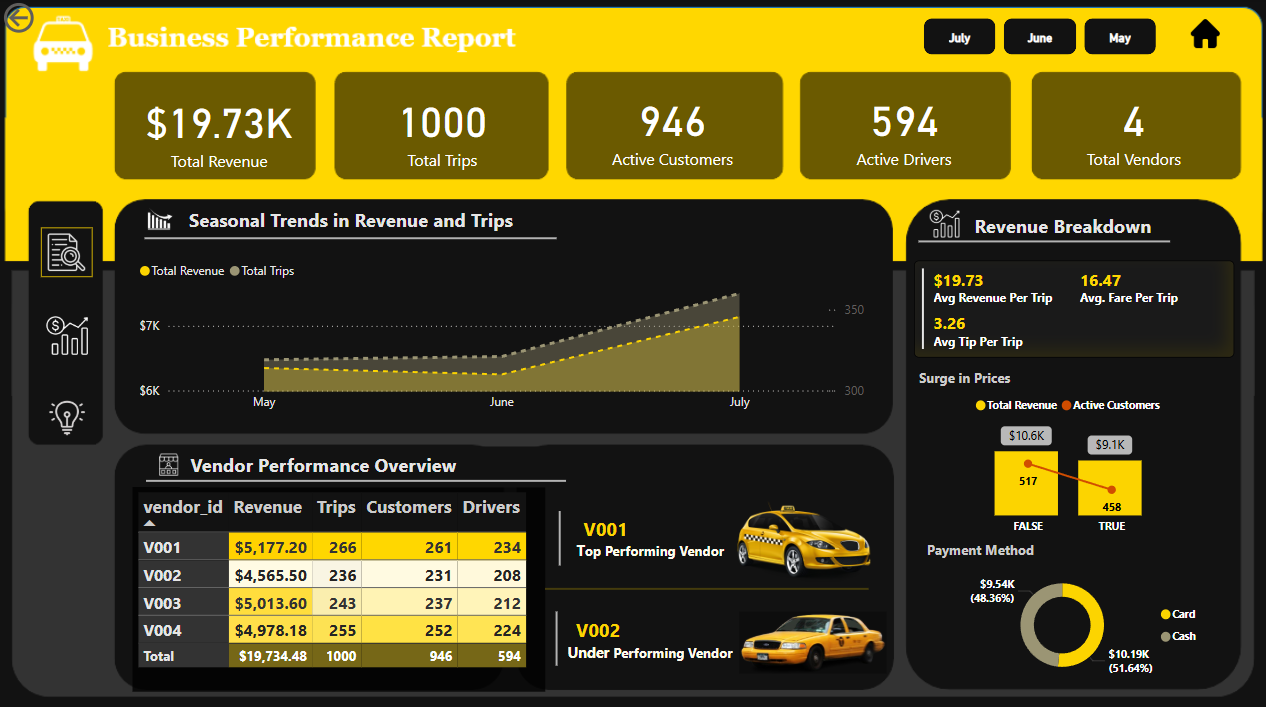

The page's visual inventory and layout, read from the dashboard file:
{"tool":"powerbi","page":{"name":"PerformanceOverview","canvas":[1280,720],"ordinal":1},"visuals":[{"type":"card","fields":{"Values":["taxi_organization_data.Total Revenue"]},"box":[136.7,83.3,171.7,98.3],"z":0},{"type":"card","fields":{"Values":["taxi_organization_data.Total Trips"]},"box":[355.3,81.3,183.3,100.2],"z":1000},{"type":"card","fields":{"Values":["taxi_organization_data.Active Customers"]},"box":[604.7,81.3,151.2,98.3],"z":2000},{"type":"card","fields":{"Values":["Count(taxi_organization_data.vendor_id)"]},"box":[1054.5,81.3,183.3,98.3],"z":3000},{"type":"actionButton","box":[0,0,100,40],"z":4000},{"type":"pieChart","fields":{"Category":["taxi_organization_data.payment_type"],"Y":["taxi_organization_data.Total Revenue"]},"box":[969.5,572.6,253.2,120.9],"z":5000},{"type":"card","fields":{"Values":["taxi_organization_data.Active Drivers"]},"box":[839.1,81.3,149.3,98.3],"z":6000},{"type":"tableEx","title":"Vendors Performance Overview","fields":{"Values":["taxi_organization_data.vendor_id","taxi_organization_data.Total Revenue","taxi_organization_data.Total Trips","taxi_organization_data.Active Customers","taxi_organization_data.Active Drivers"]},"box":[135,493.3,416.7,206.7],"z":7000},{"type":"lineClusteredColumnComboChart","title":"Surge in Prices","fields":{"Category":["taxi_organization_data.surge_pricing"],"Y":["taxi_organization_data.Total Revenue"],"Y2":["taxi_organization_data.Active Customers"]},"box":[924,374,314,176],"z":8000},{"type":"multiRowCard","fields":{"Values":["taxi_organization_data.Avg Revenue Per Trip","taxi_organization_data.Avg. Fare Per Trip","taxi_organization_data.Avg Tip Per Trip"]},"box":[924.1,264.6,323.2,98.3],"z":9000},{"type":"textbox","box":[182,206,396,38],"z":10000},{"type":"shape","box":[147.5,233.8,416.2,18.8],"z":11000},{"type":"textbox","box":[182.5,452.5,496.2,41.2],"z":12000},{"type":"shape","box":[148,472,424,30],"z":14000},{"type":"areaChart","fields":{"Category":["DateCalendar.Date Hierarchy.Month Name","DateCalendar.Date Hierarchy.Week of Month","DateCalendar.Date Hierarchy.Day Name","DateCalendar.Date Hierarchy.Date"],"Y":["taxi_organization_data.Total Revenue"],"Y2":["taxi_organization_data.Total Trips"]},"box":[136,256,742,170],"z":15000},{"type":"image","box":[710.6,502.7,204.1,94.5],"z":16000},{"type":"shape","box":[551.8,582.1,326.9,30.2],"z":17000},{"type":"image","box":[742.7,602.8,158.7,96.4],"z":18000},{"type":"textbox","box":[565,644.4,196.5,30.2],"z":19000},{"type":"textbox","box":[572.6,619.8,102,39.7],"z":20000},{"type":"shape","box":[549.9,619.8,26.5,54.8],"z":21000},{"type":"textbox","box":[573.9,542.4,181.4,30.2],"z":22000},{"type":"textbox","box":[579.5,517.8,102,39.7],"z":23000},{"type":"shape","box":[552.6,518.3,26.7,55],"z":24000},{"type":"textbox","box":[927.9,542.4,190.9,35.9],"z":25000},{"type":"textbox","box":[980,212,234,42],"z":26000},{"type":"shape","box":[928,238,254,16],"z":27000},{"type":"image","box":[138,200,50,48],"z":28000},{"type":"image","box":[136,452,70,36],"z":29000},{"type":"image","box":[928,208,52,40],"z":30000},{"type":"image","box":[42,310,52,60],"z":31000},{"type":"image","box":[42,232,52,50],"z":32000},{"type":"image","box":[42,400,52,48],"z":33000},{"type":"image","box":[1198.1,11.3,39.7,51],"z":34000},{"type":"advancedSlicerVisual","fields":{"Values":["DateCalendar.Month Name"]},"box":[927.9,15.1,247.6,47.2],"z":35000}]}

Visuals, with their boxes in screenshot pixels (x1, y1, x2, y2), scaled from the page's 1280x720 canvas onto the 1266x707 screenshot:
card - taxi_organization_data.Total Revenue: 135/82/305/178
card - taxi_organization_data.Total Trips: 351/80/533/178
card - taxi_organization_data.Active Customers: 598/80/748/176
card - Count(taxi_organization_data.vendor_id): 1043/80/1224/176
actionButton: 0/0/99/39
pieChart - taxi_organization_data.payment_type x taxi_organization_data.Total Revenue: 959/562/1209/681
card - taxi_organization_data.Active Drivers: 830/80/978/176
"Vendors Performance Overview" tableEx: 134/484/546/687
"Surge in Prices" lineClusteredColumnComboChart: 914/367/1224/540
multiRowCard - taxi_organization_data.Avg Revenue Per Trip x taxi_organization_data.Avg. Fare Per Trip: 914/260/1234/356
textbox: 180/202/572/240
shape: 146/230/558/248
textbox: 181/444/671/485
shape: 146/463/566/493
areaChart - DateCalendar.Date Hierarchy.Month Name x DateCalendar.Date Hierarchy.Week of Month: 135/251/868/418
image: 703/494/905/586
shape: 546/572/869/601
image: 735/592/892/687
textbox: 559/633/753/662
textbox: 566/609/667/648
shape: 544/609/570/662
textbox: 568/533/747/562
textbox: 573/508/674/547
shape: 547/509/573/563
textbox: 918/533/1107/568
textbox: 969/208/1201/249
shape: 918/234/1169/249
image: 136/196/186/244
image: 135/444/204/479
image: 918/204/969/244
image: 42/304/93/363
image: 42/228/93/277
image: 42/393/93/440
image: 1185/11/1224/61
advancedSlicerVisual - DateCalendar.Month Name: 918/15/1163/61
